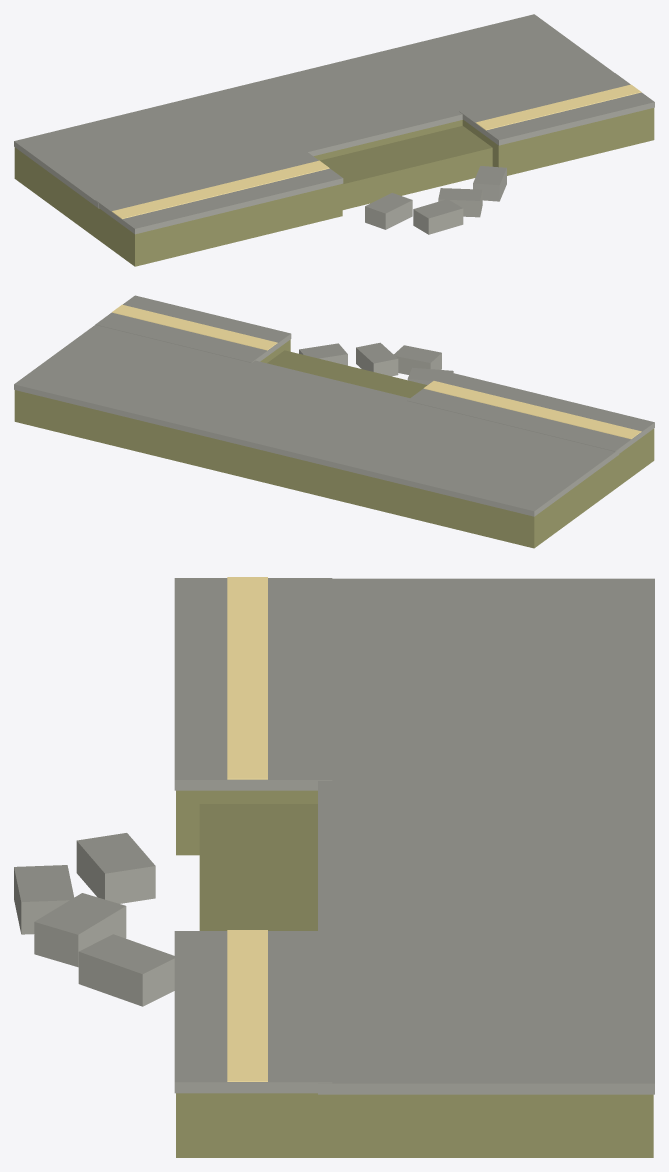
The model's file is SM_KitAnden_v2_LOD1.fbx.
3 renders of one model, top to bottom at view 1: azimuth 30°, elevation 25°; view 2: azimuth 150°, elevation 25°; view 3: azimuth 270°, elevation 25°, orthographic. The views are drawn at different scales.
Visible parts, largest first — view 1: SM_bloques.kit_anden_v2_LOD1; view 2: SM_bloques.kit_anden_v2_LOD1; view 3: SM_bloques.kit_anden_v2_LOD1.
Part boxes in pixels (left/top/right/bottom): SM_bloques.kit_anden_v2_LOD1: left=14, top=14, right=654, bottom=266; SM_bloques.kit_anden_v2_LOD1: left=14, top=295, right=654, bottom=548; SM_bloques.kit_anden_v2_LOD1: left=14, top=577, right=654, bottom=1157.
Bounding box in the file's own units: 10 × 0.71 × 5.36.
